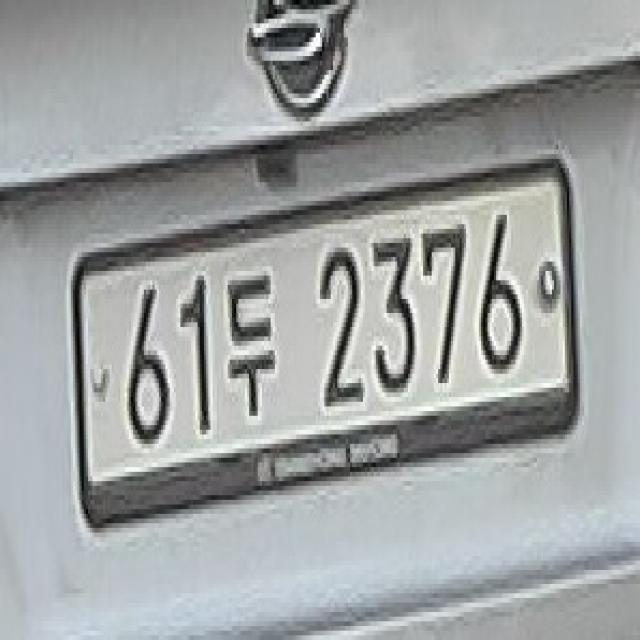1: (176, 269, 216, 442)
2: (312, 236, 366, 412)
3: (370, 222, 418, 400)
6: (475, 207, 526, 383), (121, 278, 172, 452)
7: (420, 214, 470, 391)
du: (220, 264, 280, 426)
license_plate: (63, 123, 597, 583)
